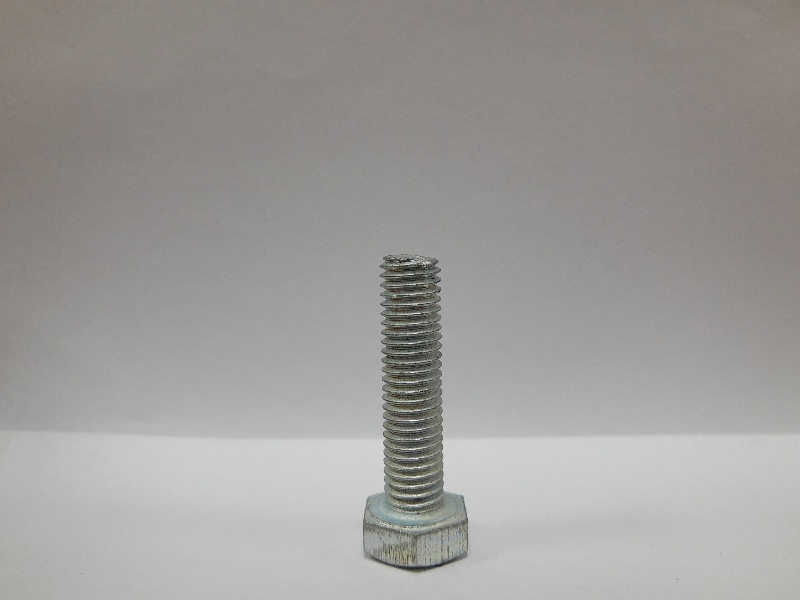pf: (356, 249, 477, 572)
